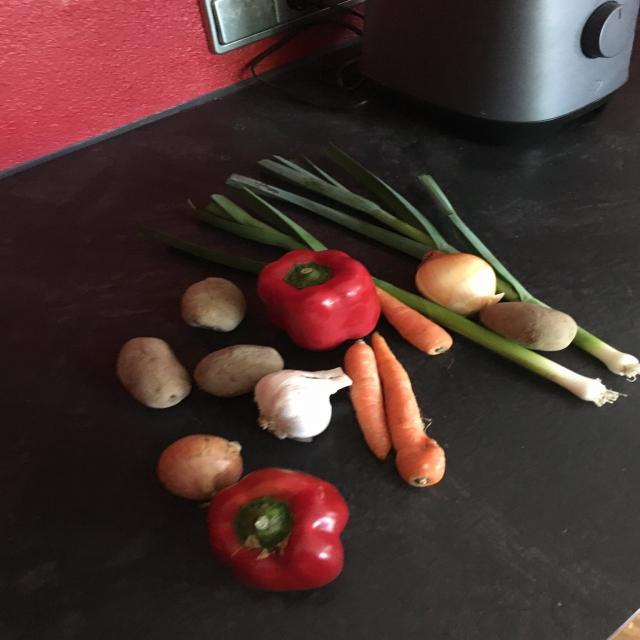Carrot: (341, 337, 453, 497), (366, 282, 456, 359)
Garlic bulb: (249, 364, 355, 441)
Onion: (150, 428, 250, 504), (413, 242, 503, 319)
Potato: (114, 328, 192, 414), (474, 301, 581, 357), (193, 340, 290, 401), (178, 272, 252, 336)
